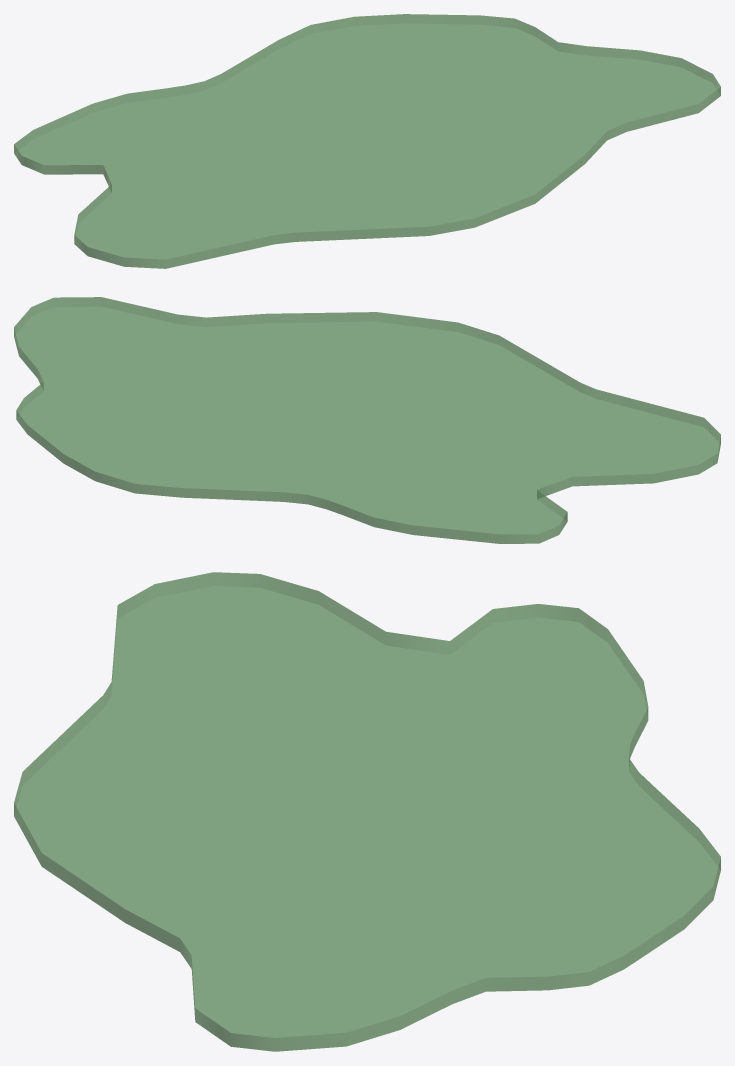
Rendered from Puddle_Green.fbx.
3 renders of one model, top to bottom at view 1: azimuth 30°, elevation 25°; view 2: azimuth 150°, elevation 25°; view 3: azimuth 270°, elevation 25°, orthographic. The views are drawn at different scales.
Visible parts, largest first — view 1: pCylinder1; view 2: pCylinder1; view 3: pCylinder1.
Part boxes in pixels (box(x1,y1,x2,y2)): pCylinder1: box(14, 14, 720, 268); pCylinder1: box(14, 297, 720, 543); pCylinder1: box(14, 572, 720, 1051).
Bounding box in the file's own units: 1.82 × 0.0252 × 1.17.
